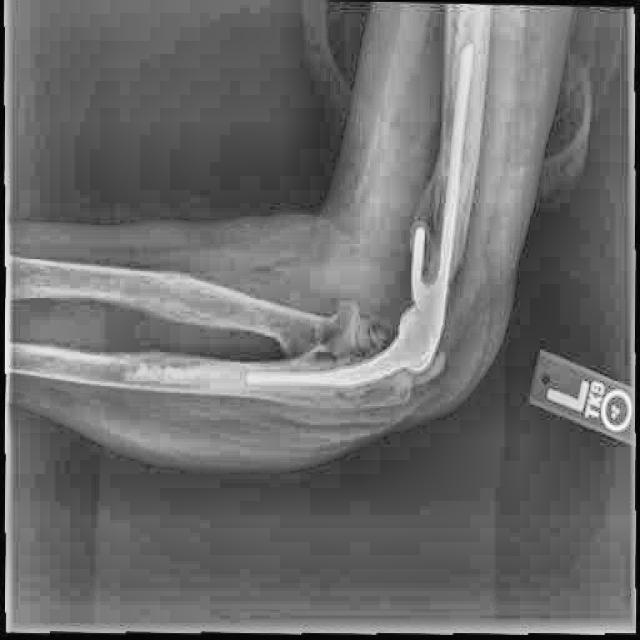elbow positive: (328, 277, 397, 371)
